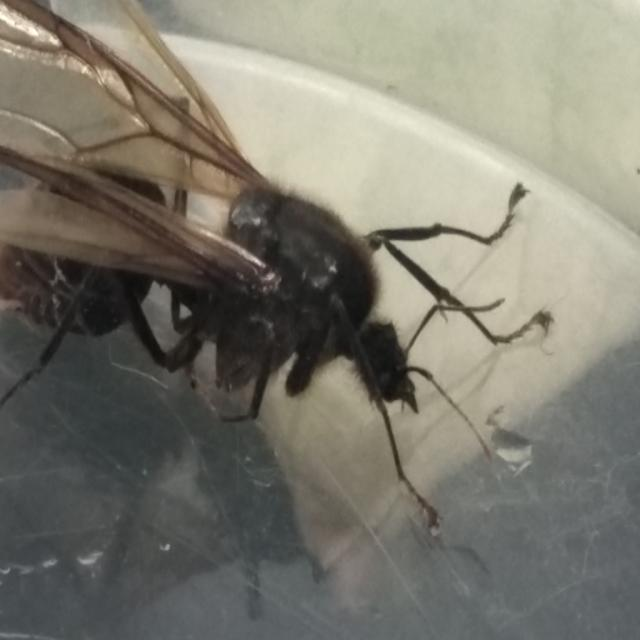Alive-Male-Alate: (0, 0, 555, 530)
